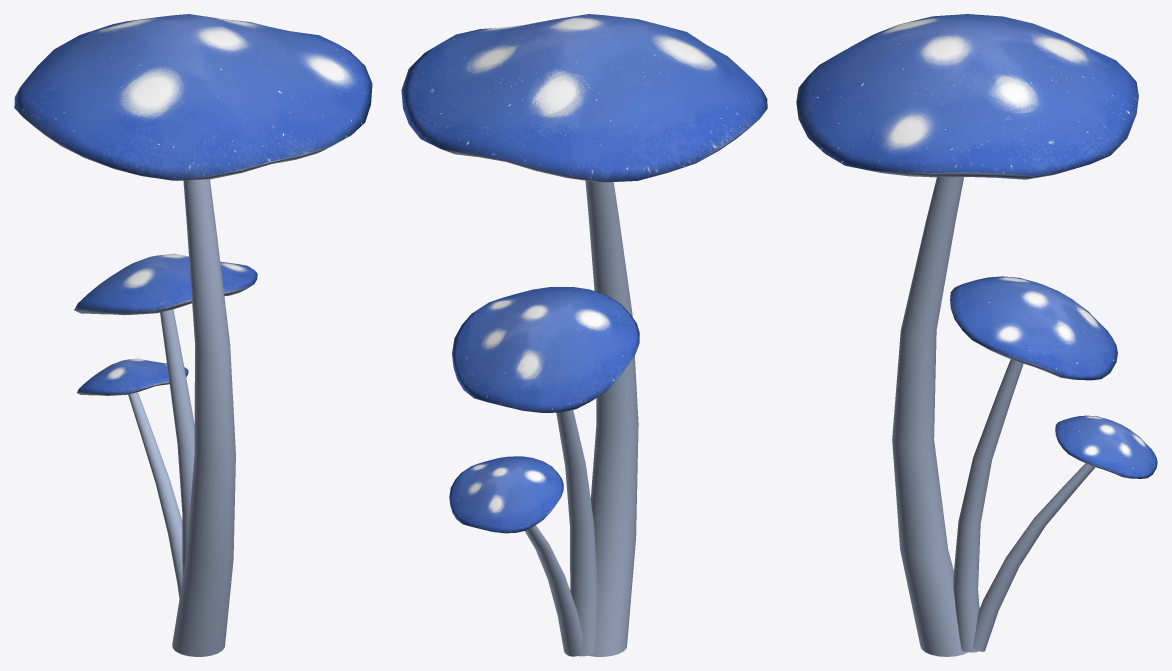
The model's file is 3bluemushrooms.fbx.
3 renders of one model, left to right at view 1: azimuth 30°, elevation 25°; view 2: azimuth 150°, elevation 25°; view 3: azimuth 270°, elevation 25°, orthographic. The views are drawn at different scales.
Parts seen in each view (by area): view 1: polySurface5; view 2: polySurface5; view 3: polySurface5.
Part boxes in pixels (x1=…): polySurface5: x1=14, y1=14, x2=372, y2=656; polySurface5: x1=401, y1=14, x2=767, y2=656; polySurface5: x1=796, y1=14, x2=1157, y2=656.
Bounding box in the file's own units: 4.46 × 8.28 × 4.43.
Materials: 2 (1 with a texture image).
